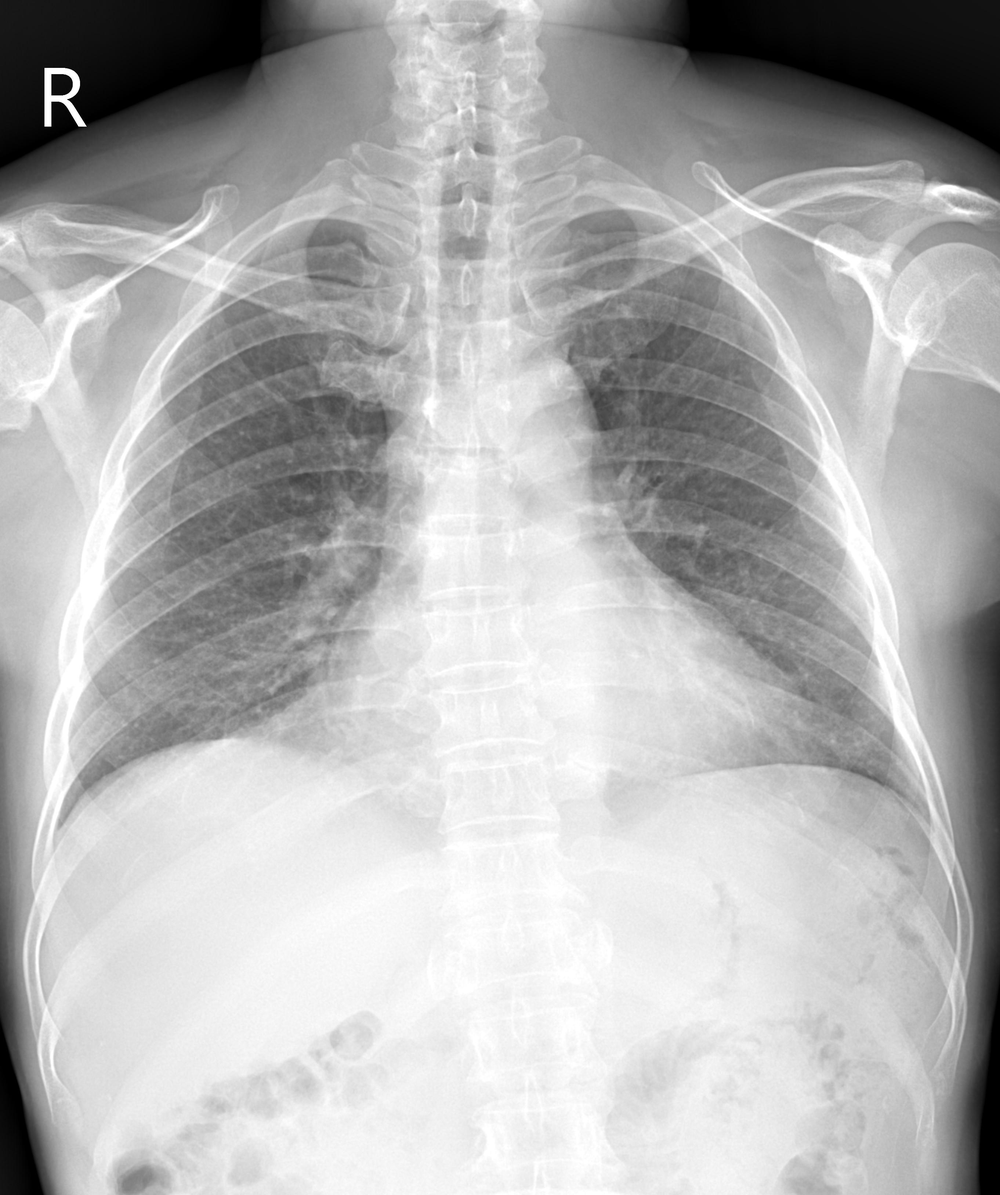Cardiomegaly: (255, 661, 804, 792)
